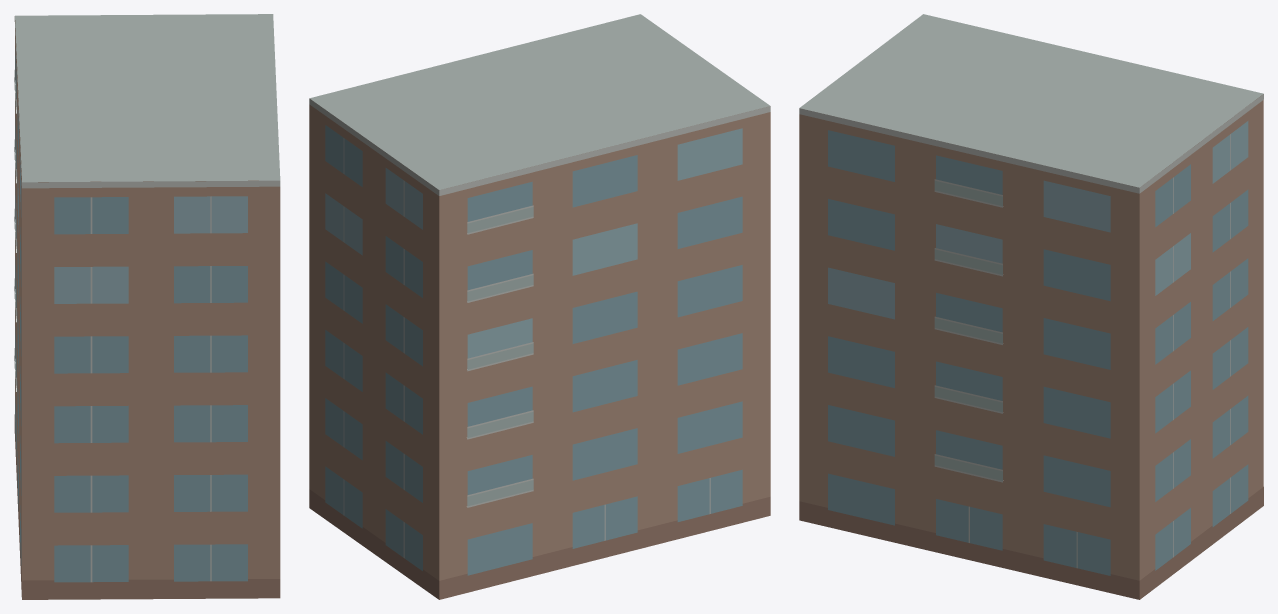
The model's file is survey-upis-32961177.glb.
The picture shows the model from 3 angles, left to right: view 1: azimuth 30°, elevation 25°; view 2: azimuth 150°, elevation 25°; view 3: azimuth 270°, elevation 25°; orthographic projection.
Parts seen in each view (by area): view 1: survey-upis-32961177.tmp; view 2: survey-upis-32961177.tmp; view 3: survey-upis-32961177.tmp.
Part boxes in pixels (x1,y1,x2,y2): survey-upis-32961177.tmp: [14, 14, 280, 599]; survey-upis-32961177.tmp: [309, 14, 770, 599]; survey-upis-32961177.tmp: [799, 14, 1263, 599].
Bounding box in the file's own units: 15.1 × 16.7 × 17.07.
